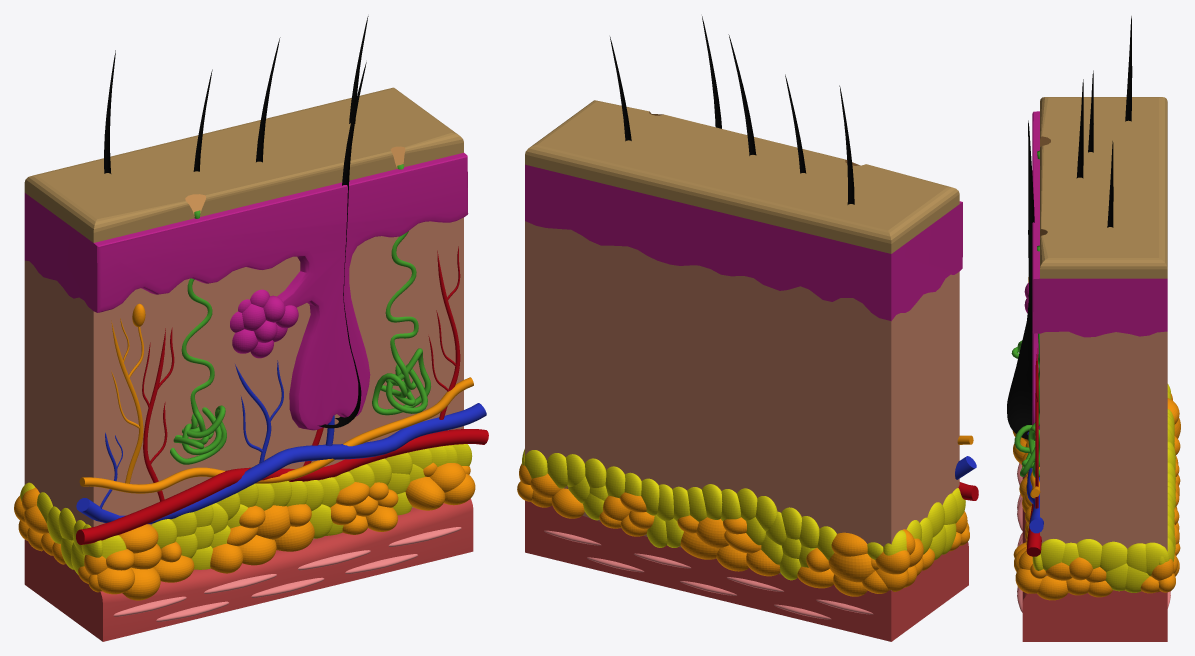
The model's file is piel.glb.
The picture shows the model from 3 angles, left to right: view 1: azimuth 30°, elevation 25°; view 2: azimuth 150°, elevation 25°; view 3: azimuth 270°, elevation 25°; orthographic projection. The views are drawn at different scales.
Parts seen in each view (by area): view 1: Cube_1, Cube_005_7, Cube_004_6, Cube_002_4, BezierCurve_001_8, BezierCurve_002_9, BezierCurve_003_10, Cylinder_006_22, BezierCurve_007_19, Sphere_007_16, Circle_003_2, BezierCurve_011_20 (+13 smaller); view 2: Cube_1, Cube_004_6, Cube_005_7, Cube_002_4, Circle_003_2, Cylinder_001_23, Sphere_097_118, Sphere_105_126, Sphere_100_121, Sphere_148_169, Sphere_104_125, Sphere_091_112; view 3: Cube_1, Cube_004_6, Cube_005_7, Cube_002_4, Circle_003_2, BezierCurve_001_8, Sphere_071_92, Sphere_069_90, Sphere_060_81, BezierCurve_013_15, Sphere_059_80, Sphere_075_96 (+13 smaller).
Boxes of the visible parts, bbox=[...] form: Cube_1: bbox=[24, 217, 463, 539]; Cube_005_7: bbox=[24, 152, 468, 430]; Cube_004_6: bbox=[24, 87, 463, 242]; Cube_002_4: bbox=[24, 498, 473, 641]; BezierCurve_001_8: bbox=[170, 164, 430, 464]; BezierCurve_002_9: bbox=[76, 403, 486, 524]; BezierCurve_003_10: bbox=[76, 429, 488, 544]; Cylinder_006_22: bbox=[113, 527, 461, 621]; BezierCurve_007_19: bbox=[79, 377, 473, 493]; Sphere_007_16: bbox=[230, 289, 298, 358]; Circle_003_2: bbox=[104, 16, 368, 428]; BezierCurve_011_20: bbox=[142, 327, 174, 501]; Cube_1: bbox=[525, 221, 959, 590]; Cube_004_6: bbox=[525, 100, 959, 253]; Cube_005_7: bbox=[525, 164, 962, 321]; Cube_002_4: bbox=[525, 500, 968, 641]; Circle_003_2: bbox=[610, 16, 854, 204]; Cylinder_001_23: bbox=[544, 530, 873, 619]; Sphere_097_118: bbox=[828, 553, 875, 582]; Sphere_105_126: bbox=[696, 517, 728, 548]; Sphere_100_121: bbox=[831, 532, 867, 556]; Sphere_148_169: bbox=[551, 488, 584, 518]; Sphere_104_125: bbox=[680, 531, 719, 559]; Sphere_091_112: bbox=[875, 550, 910, 574]; Cube_1: bbox=[1040, 331, 1167, 575]; Cube_004_6: bbox=[1040, 97, 1167, 278]; Cube_005_7: bbox=[1032, 111, 1167, 429]; Cube_002_4: bbox=[1022, 475, 1167, 641]; Circle_003_2: bbox=[1007, 16, 1132, 439]; BezierCurve_001_8: bbox=[1011, 150, 1039, 477]; Sphere_071_92: bbox=[1100, 541, 1127, 571]; Sphere_069_90: bbox=[1040, 539, 1065, 570]; Sphere_060_81: bbox=[1037, 576, 1068, 600]; BezierCurve_013_15: bbox=[1035, 348, 1038, 508]; Sphere_059_80: bbox=[1076, 539, 1102, 569]; Sphere_075_96: bbox=[1145, 542, 1169, 576].
Bounding box in the file's own units: 2.31 × 2.89 × 0.9246.
